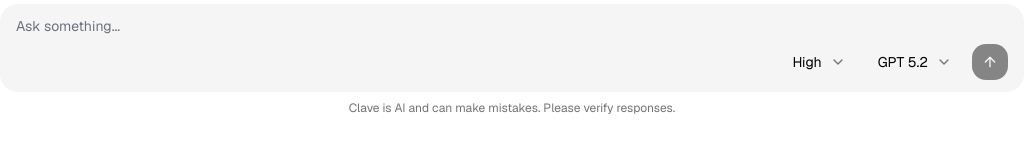
Test case: ChatInput › enables submit button when input has content
Type "Hello" into the text box with placeholder "Ask something..." at (394, 48), box [16, 16, 772, 80]
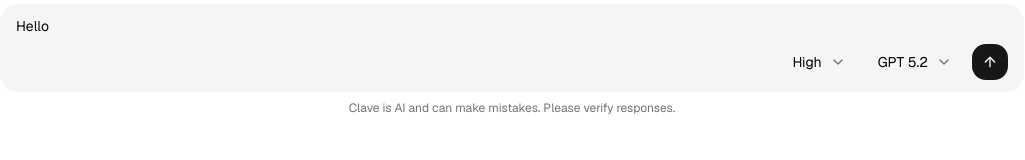
Expected: the button named "send message" is enabled, [972, 44, 1008, 80]
